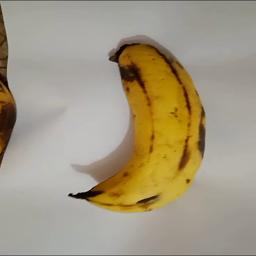Banana Semifresh: (63, 41, 209, 215)
